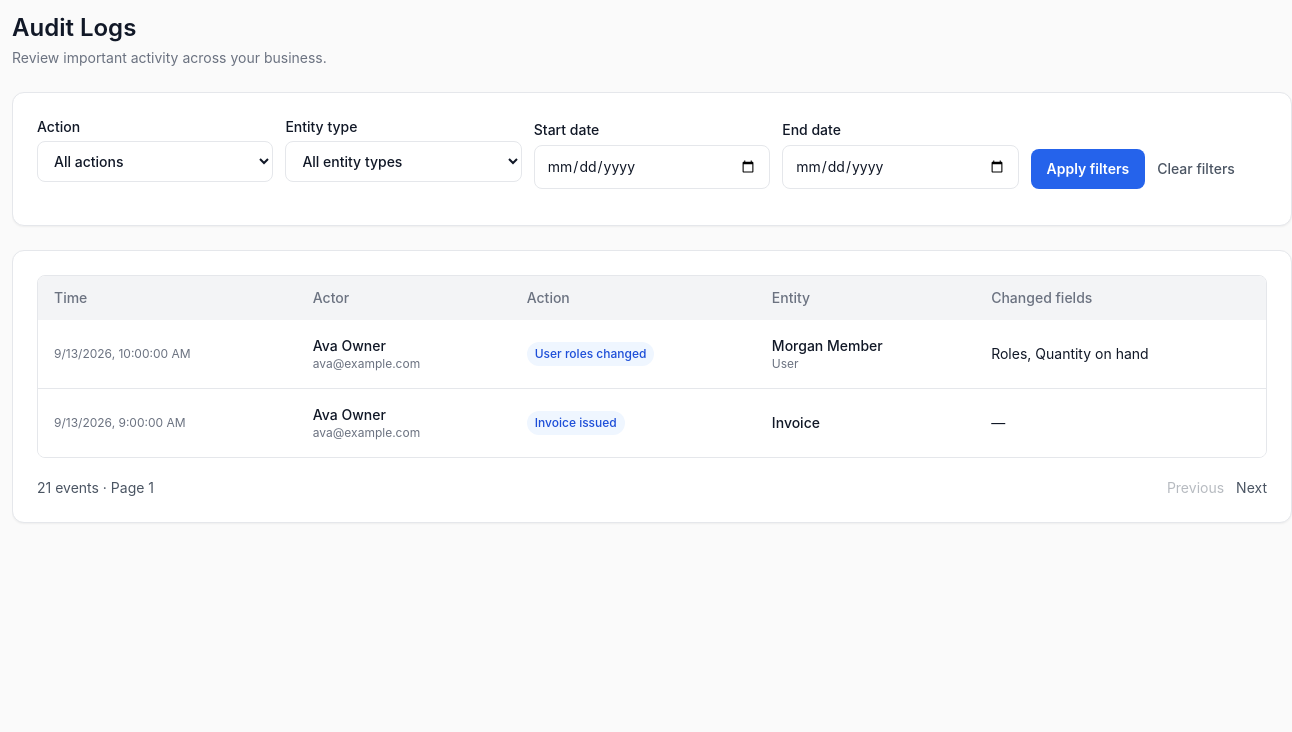
Test: audit logs viewer › requests the next page and disables pagination at its boundaries
The image size is (1292, 732).
Expected: the text "Morgan Member" is shown, [772,337,883,354]
Expected: the button "Previous" is disabled, [1167,478,1224,498]
Click the button "Next": (1252, 488) [1236,478,1267,498]
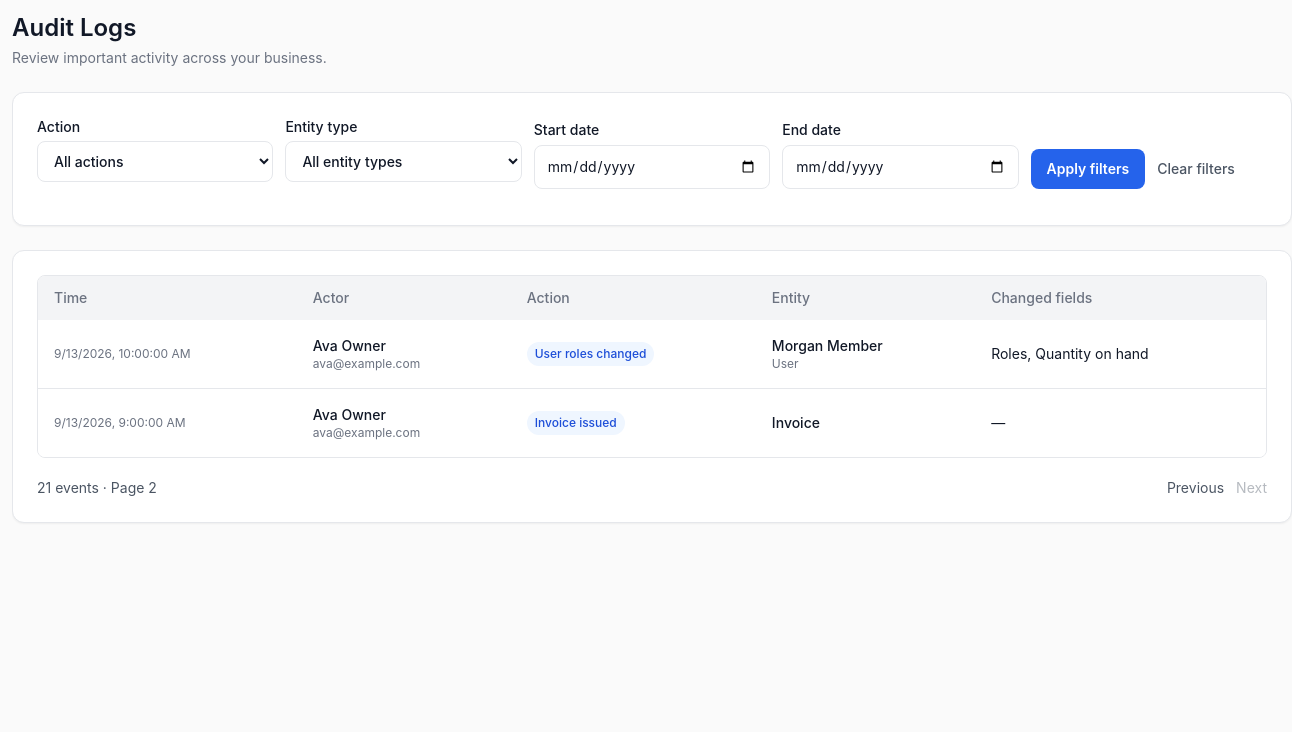
Expected: the text "21 events · Page 2" is shown, [37,478,157,498]
Expected: the button "Previous" is enabled, [1167,478,1224,498]
Expected: the button "Next" is disabled, [1236,478,1267,498]
